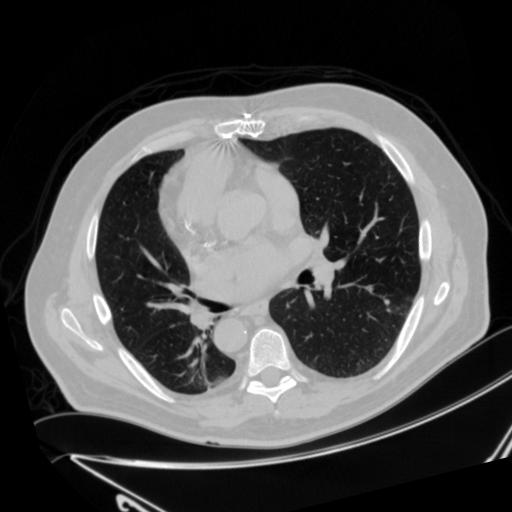nodule: (383, 296, 396, 309)
